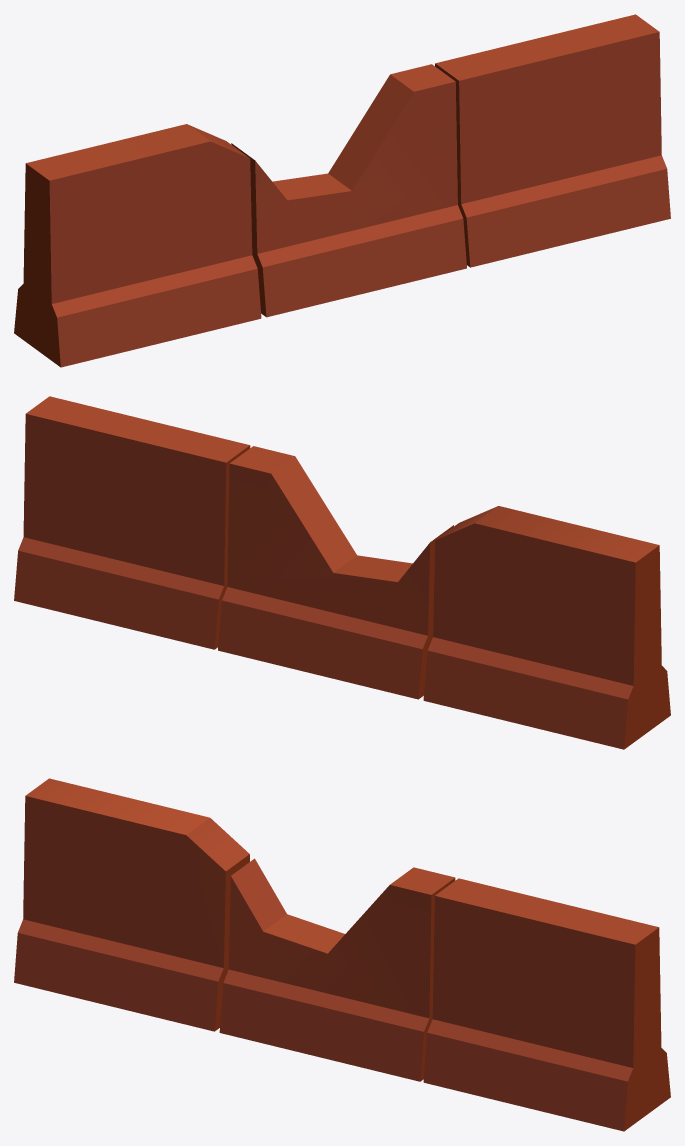
Rendered from Wall1.fbx.
3 renders of one model, top to bottom at view 1: azimuth 30°, elevation 25°; view 2: azimuth 150°, elevation 25°; view 3: azimuth 330°, elevation 25°, orthographic.
Visible parts, largest first — view 1: Wall1; view 2: Wall1; view 3: Wall1.
Boxes of the visible parts, x1,y1,x2,y2 form: Wall1: [14, 14, 670, 367]; Wall1: [14, 396, 670, 749]; Wall1: [14, 778, 670, 1131].
Bounding box in the file's own units: 322 × 90.17 × 42.89.
